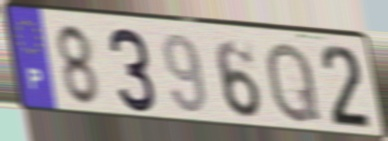2: (320, 42, 375, 133)
3: (105, 23, 156, 116)
6: (213, 37, 263, 121)
8: (54, 22, 104, 109)
9: (160, 31, 209, 117)
Q: (264, 39, 324, 127)
